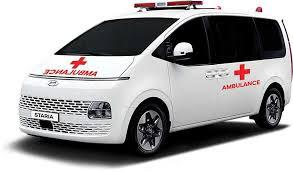hyundai: (45, 77, 63, 87)
